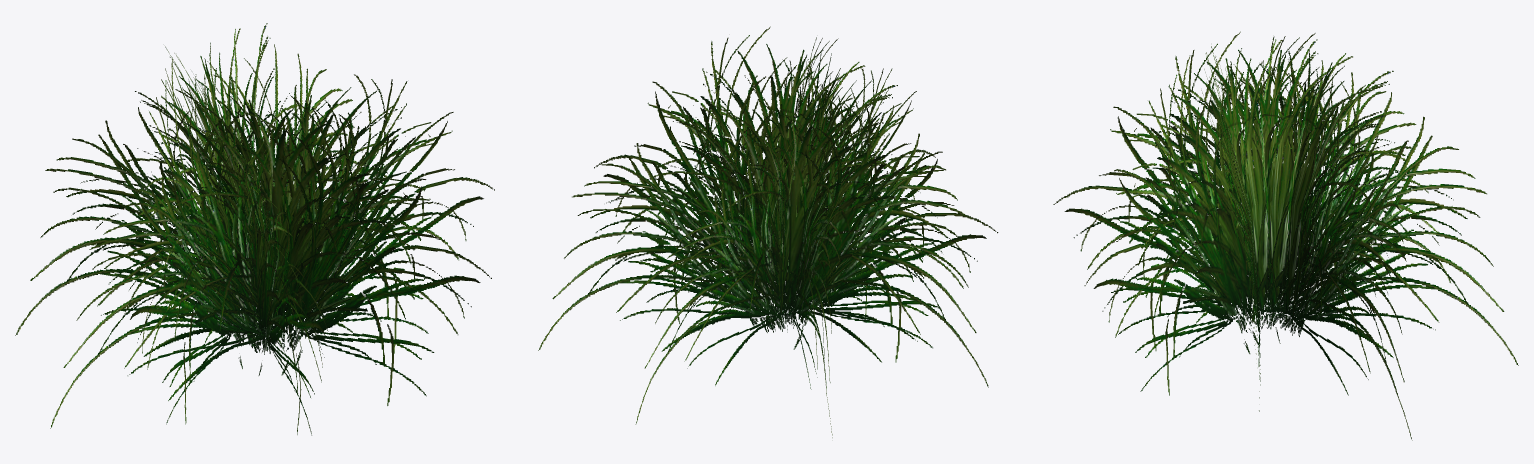
Rendered from Longgras.fbx.
3 views of the same model, side by side, from view 1: azimuth 30°, elevation 25°; view 2: azimuth 150°, elevation 25°; view 3: azimuth 270°, elevation 25° (orthographic). The views are drawn at different scales.
Visible parts, largest first — view 1: grass_003, grass_1, grass_005, grass_004; view 2: grass_005, grass_1, grass_004, grass_003; view 3: grass_004, grass_003, grass_005, grass_1.
Boxes of the visible parts, bbox=[...] form: grass_003: bbox=[15, 89, 491, 405]; grass_1: bbox=[50, 74, 494, 428]; grass_005: bbox=[123, 23, 382, 424]; grass_004: bbox=[160, 46, 329, 435]; grass_005: bbox=[538, 94, 998, 362]; grass_1: bbox=[594, 26, 988, 387]; grass_004: bbox=[635, 68, 935, 424]; grass_003: bbox=[762, 37, 854, 437]; grass_004: bbox=[1053, 31, 1518, 365]; grass_003: bbox=[1084, 39, 1450, 395]; grass_005: bbox=[1182, 33, 1412, 440]; grass_1: bbox=[1201, 46, 1260, 411].
Bounding box in the file's own units: 19.76 × 14.21 × 19.41.
